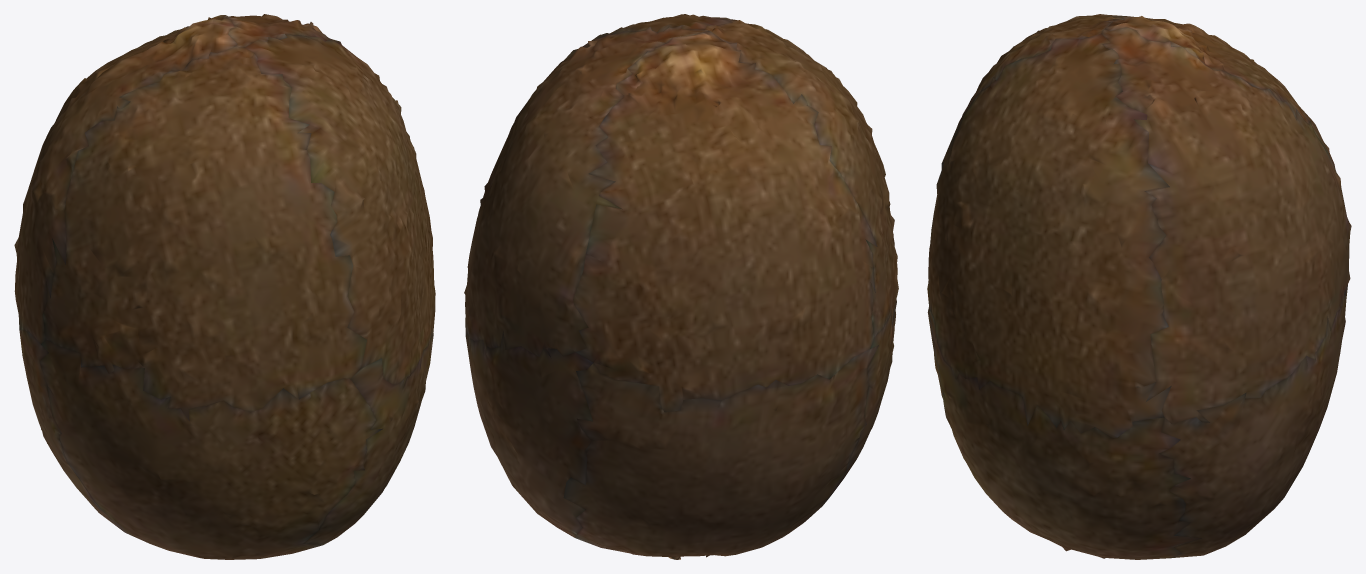
Rendered from food_kiwi_01.glb.
3 renders of one model, left to right at view 1: azimuth 30°, elevation 25°; view 2: azimuth 150°, elevation 25°; view 3: azimuth 270°, elevation 25°, orthographic.
Parts seen in each view (by area): view 1: food_kiwi_01; view 2: food_kiwi_01; view 3: food_kiwi_01.
Boxes of the visible parts, x1,y1,x2,y2 form: food_kiwi_01: (14,14,435,559); food_kiwi_01: (464,14,898,559); food_kiwi_01: (927,14,1351,559).
Size of the model in its own units: 0.0695 by 0.0901 by 0.0686.
1 material, 1 textured.
